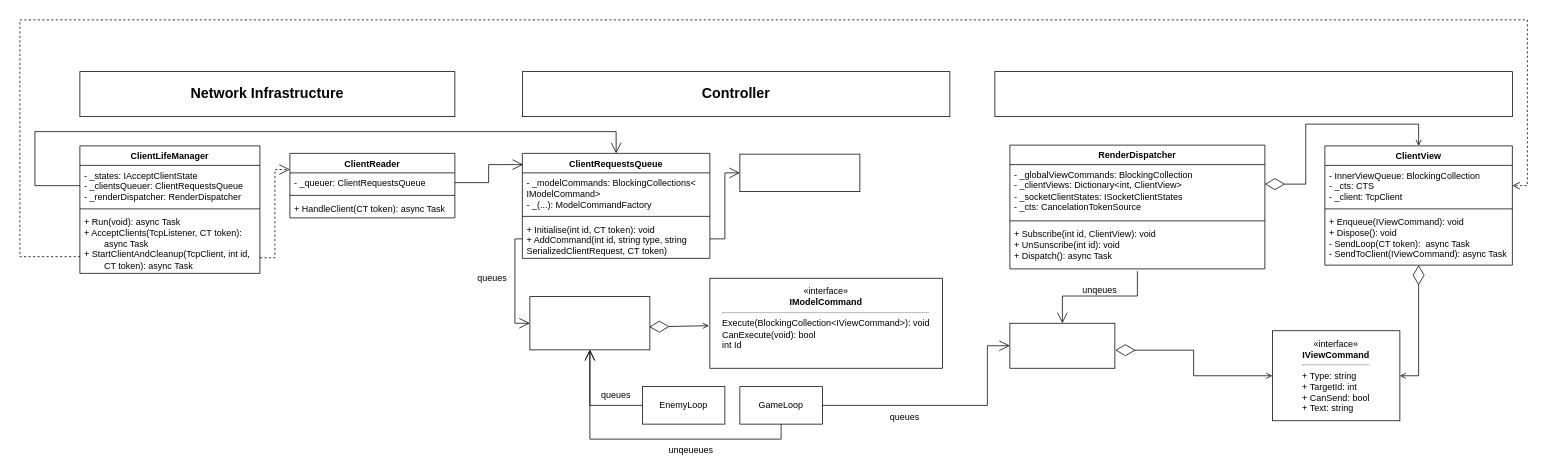
Image size: 1548x475. Some labels were removed from this diagram. Each missing label, with the centre of its shape:
BlockingCollection _viewCommands: [1062,345]
BlockingCollections _modelCommands: [589,323]
ModelCommandFactory: [799,172]
Network View: [1253,94]
